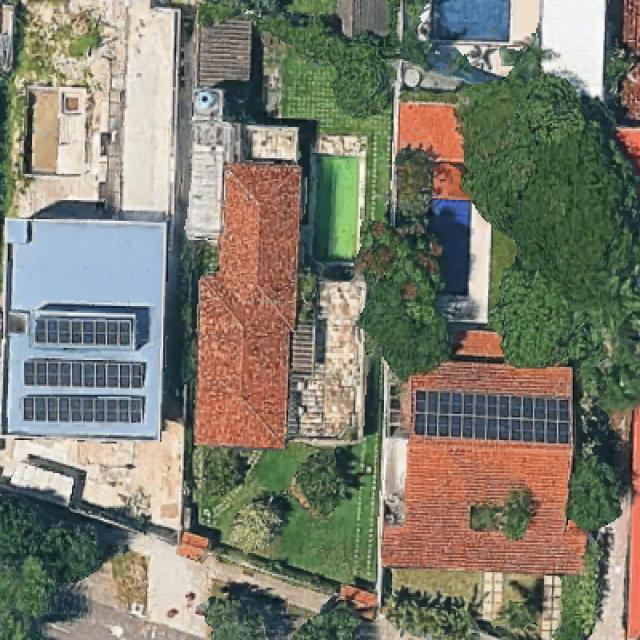painel: (414, 386, 571, 443), (24, 360, 145, 389), (36, 317, 134, 349), (26, 397, 141, 421)
